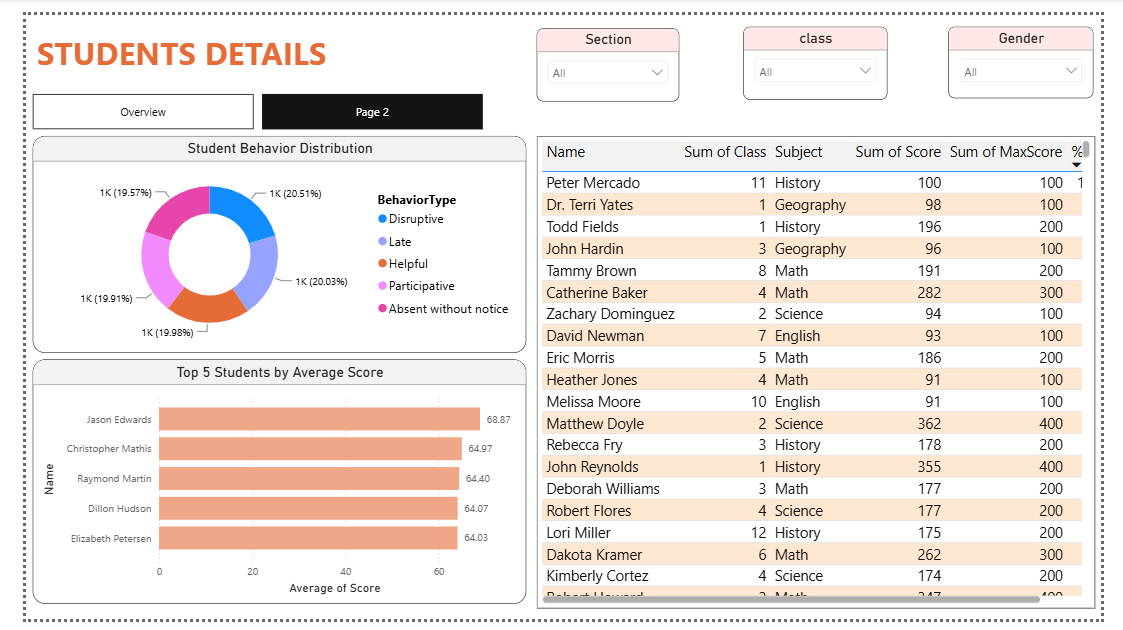

The page's visual inventory and layout, read from the dashboard file:
{"tool":"powerbi","page":{"name":"Page 2","canvas":[1280,720],"ordinal":1},"visuals":[{"type":"tableEx","fields":{"Values":["Students - Students csv.Name","Sum(Students - Students csv.Class)","Scores - Scores csv.Subject","Sum(Scores - Scores csv.Score)","Sum(Scores - Scores csv.MaxScore)","Scores - Scores csv.% Score"]},"box":[607,144.5,664.8,562.7],"z":0},{"type":"donutChart","title":"Student Behavior Distribution","fields":{"Category":["Behavior - Behavior csv.BehaviorType"],"Y":["Behavior - Behavior csv.Behavior Count per Type"]},"box":[7.7,144.5,587.7,258.2],"z":1},{"type":"slicer","title":"Section","fields":{"Values":["Students - Students csv.Section"]},"box":[607,15.4,169.6,86.7],"z":3},{"type":"slicer","title":"class","fields":{"Values":["Students - Students csv.Class"]},"box":[853.7,13.5,171.5,86.7],"z":4},{"type":"slicer","title":"Gender","fields":{"Values":["Students - Students csv.Gender"]},"box":[1097.7,14.2,172.7,85.1],"z":5},{"type":"clusteredBarChart","title":"Top 5 Students by Average Score","fields":{"Category":["Students - Students csv.Name"],"Y":["Avg(Scores - Scores csv.Score)"]},"box":[7.7,410.5,587.8,291],"z":8},{"type":"textbox","box":[7.7,13.5,468.3,69.4],"z":9},{"type":"pageNavigator","box":[7.7,94.4,537.7,42.4],"z":10}]}

Visuals, with their boxes in screenshot pixels (x1, y1, x2, y2), scaled from the page's 1280x720 canvas onto the 1123x630 screenshot:
tableEx - Students - Students csv.Name x Sum(Students - Students csv.Class): {"x1": 533, "y1": 126, "x2": 1116, "y2": 619}
"Student Behavior Distribution" donutChart: {"x1": 7, "y1": 126, "x2": 522, "y2": 352}
"Section" slicer: {"x1": 533, "y1": 13, "x2": 681, "y2": 89}
"class" slicer: {"x1": 749, "y1": 12, "x2": 899, "y2": 88}
"Gender" slicer: {"x1": 963, "y1": 12, "x2": 1115, "y2": 87}
"Top 5 Students by Average Score" clusteredBarChart: {"x1": 7, "y1": 359, "x2": 522, "y2": 614}
textbox: {"x1": 7, "y1": 12, "x2": 418, "y2": 73}
pageNavigator: {"x1": 7, "y1": 83, "x2": 479, "y2": 120}
